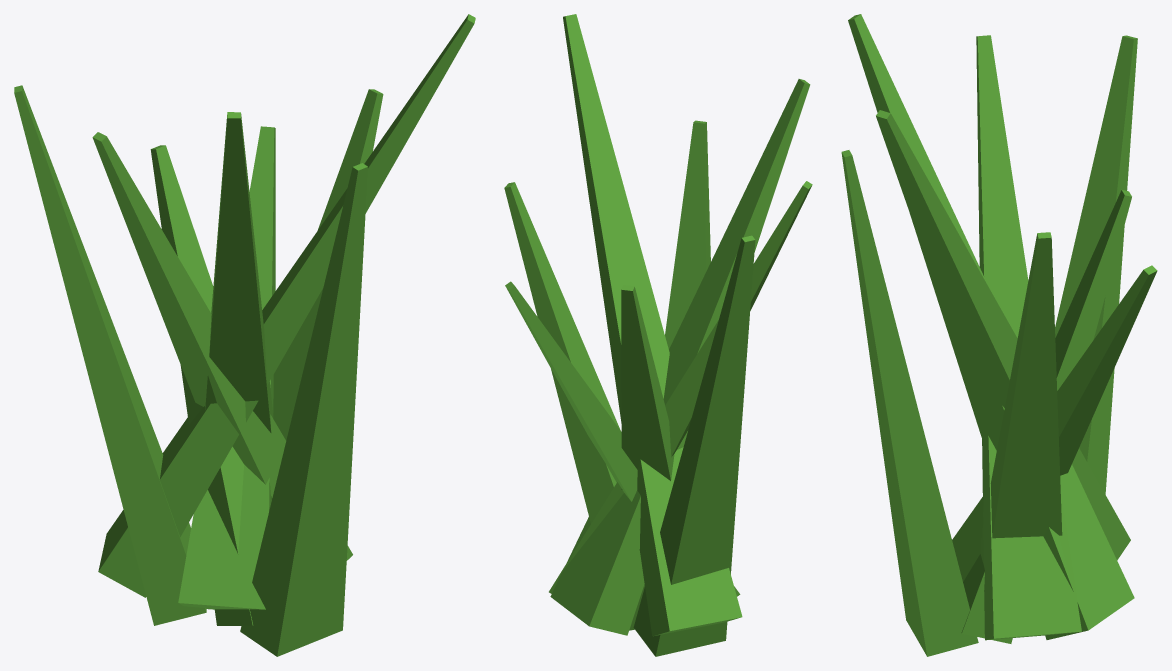
Rendered from GrassTuft.fbx.
3 views of the same model, side by side, from view 1: azimuth 30°, elevation 25°; view 2: azimuth 150°, elevation 25°; view 3: azimuth 270°, elevation 25° (orthographic). The views are drawn at different scales.
Visible parts, largest first — view 1: Grass; view 2: Grass; view 3: Grass.
Boxes of the visible parts, x1=… form: Grass: x1=14, y1=14, x2=475, y2=656; Grass: x1=504, y1=14, x2=812, y2=656; Grass: x1=841, y1=14, x2=1157, y2=656.
Size of the model in its own units: 0.8638 by 1.47 by 0.7049.
